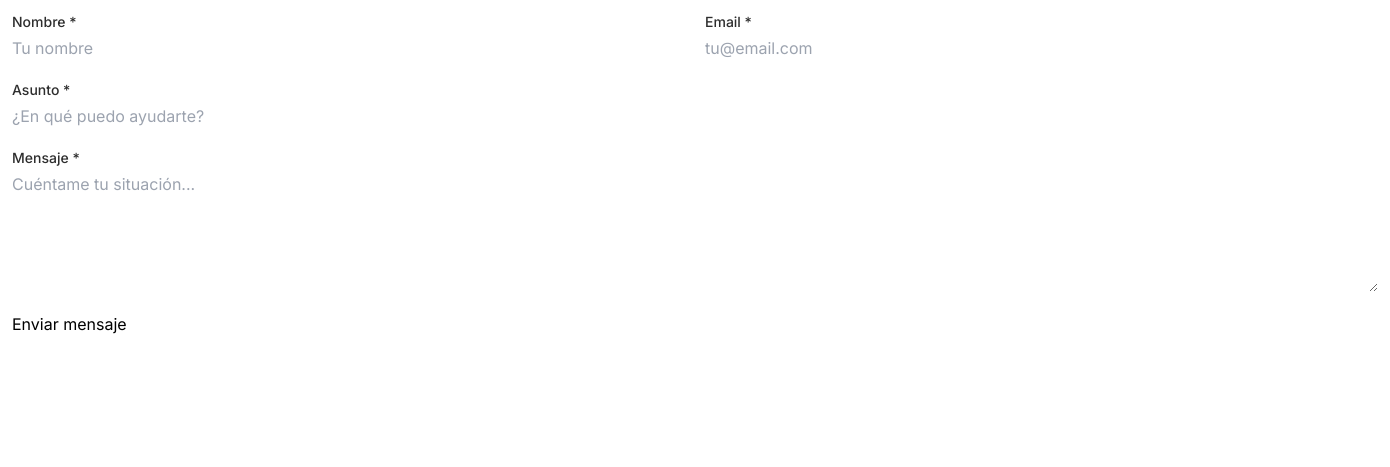
it: ContactForm › disables submit button during submission
The width and height of the screenshot is (1390, 467).
Type "Ana García" into the field labelled "Nombre *".
click(348, 48); type("Ana García")  # box [12, 36, 685, 60]
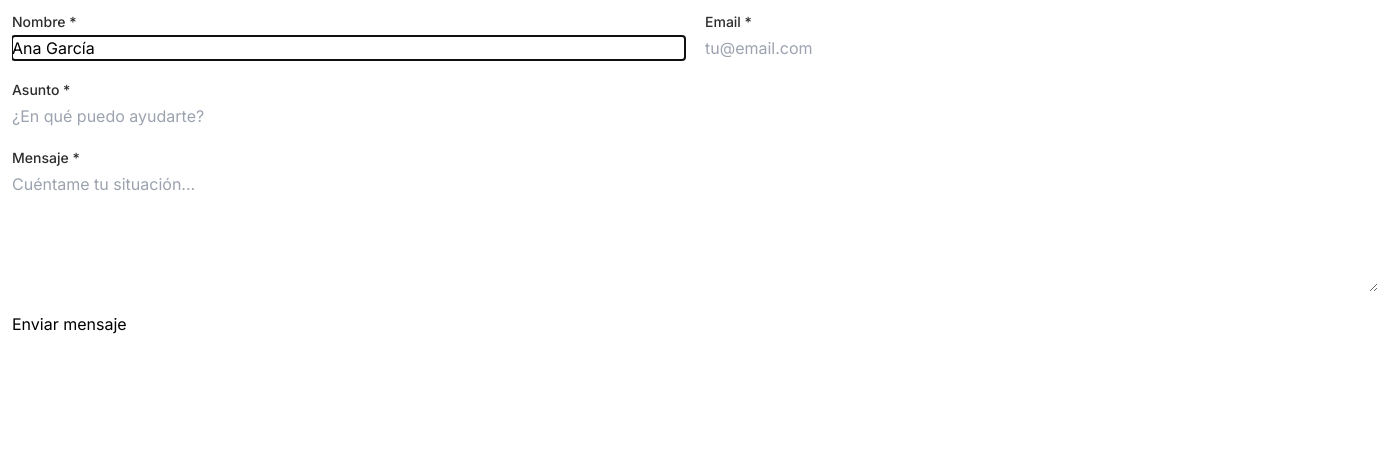
Type "ana@example.com" into the field labelled "Email *".
click(1042, 48); type("ana@example.com")  # box [705, 36, 1378, 60]
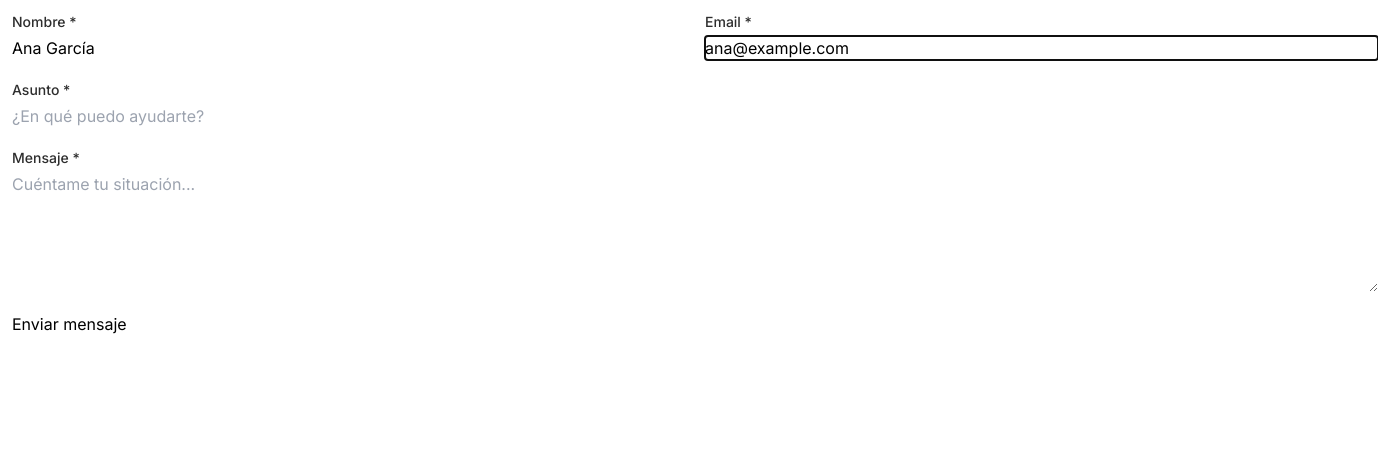
Type "Consulta" into the field labelled "Asunto *".
click(695, 116); type("Consulta")  # box [12, 104, 1378, 128]
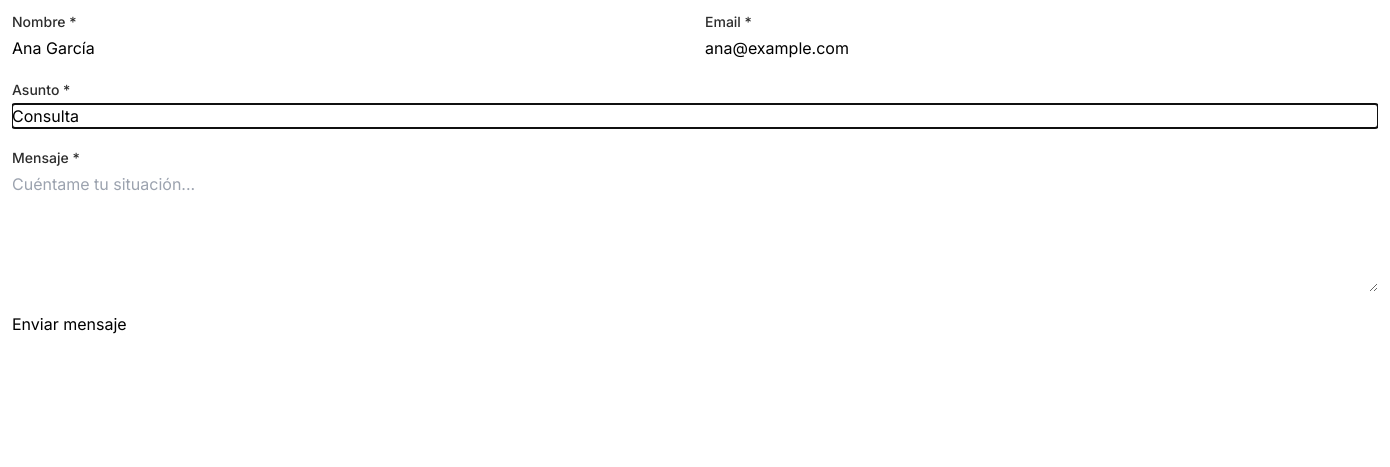
Type "Hola, me gustaría saber más." into the text box labelled "Mensaje *".
click(695, 232); type("Hola, me gustaría saber más.")  # box [12, 172, 1378, 292]
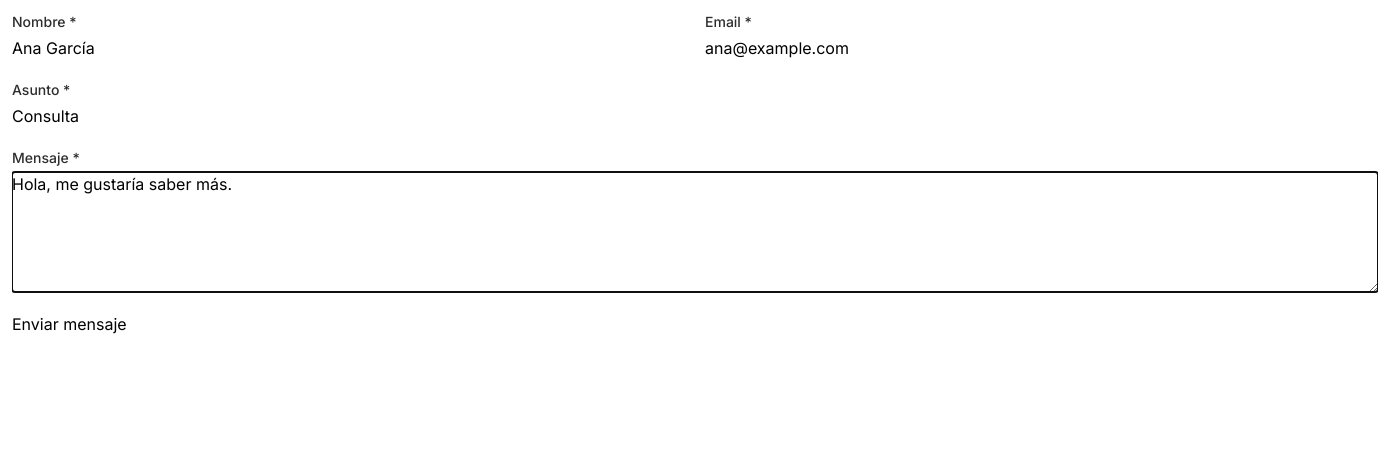
Click the button "Enviar mensaje".
click(69, 324)  # box [12, 312, 127, 336]
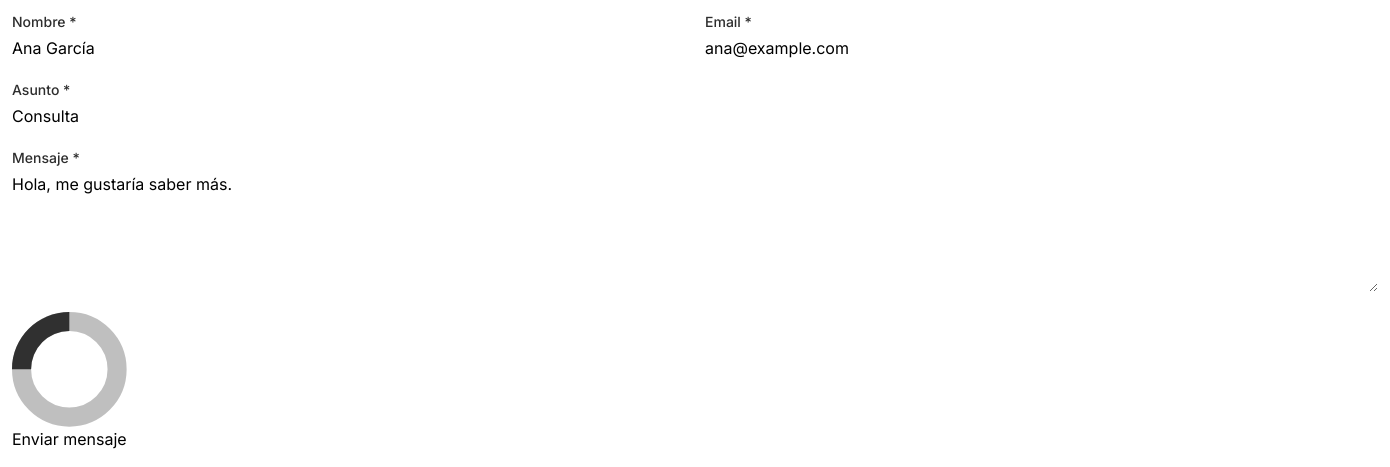
Expected: the button "Enviar mensaje" is disabled, [12, 312, 127, 451]
